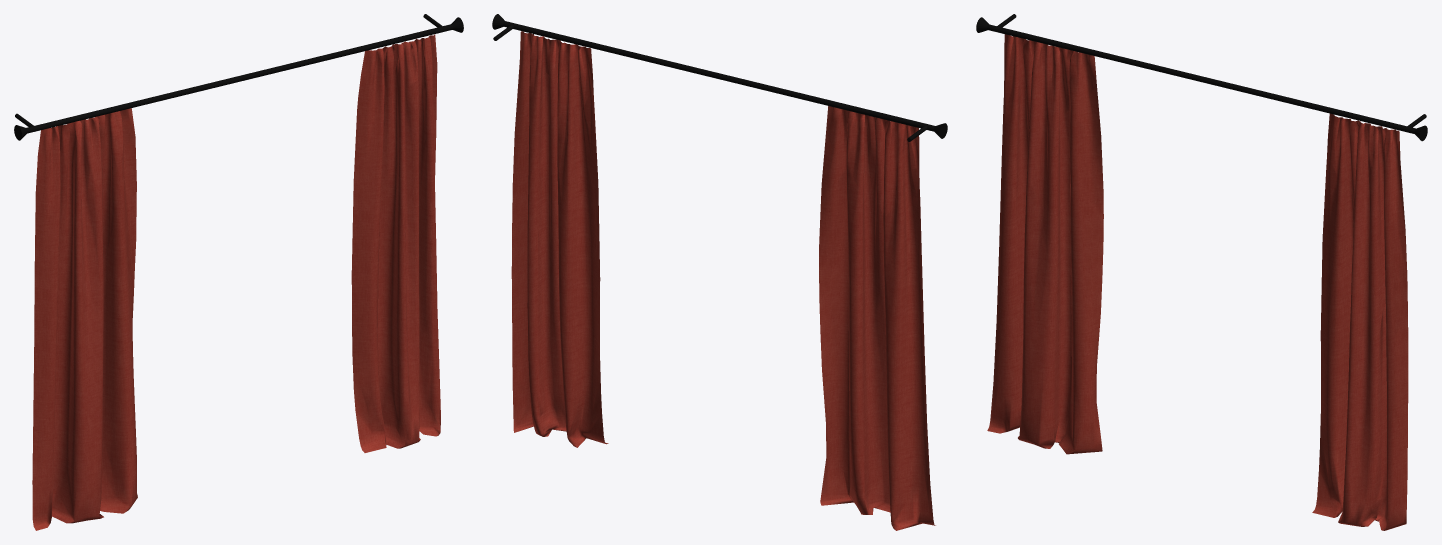
The model's file is Curtain.FBX.
The picture shows the model from 3 angles, left to right: view 1: azimuth 30°, elevation 25°; view 2: azimuth 150°, elevation 25°; view 3: azimuth 330°, elevation 25°; orthographic projection.
Visible parts, largest first — view 1: curtain; view 2: curtain; view 3: curtain.
Part boxes in pixels (x1,y1,x2,y2): curtain: (14,14,463,530); curtain: (492,14,947,530); curtain: (976,14,1427,530).
Size of the model in its own units: 195 by 170 by 24.4.
2 materials, 1 textured.
